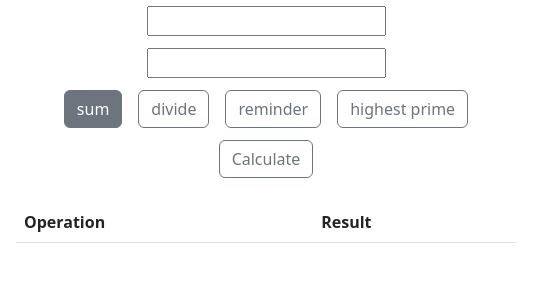
template spec › should calculate the sum
Type "5" into the 1st number field named "calculator-input" at [267, 21], box [147,6,386,36]
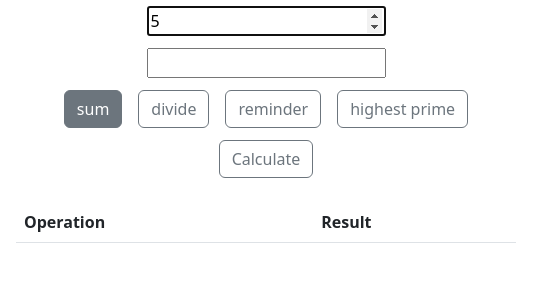
Type "10" into the 2nd number field named "calculator-input" at [267, 63], box [147,48,386,78]
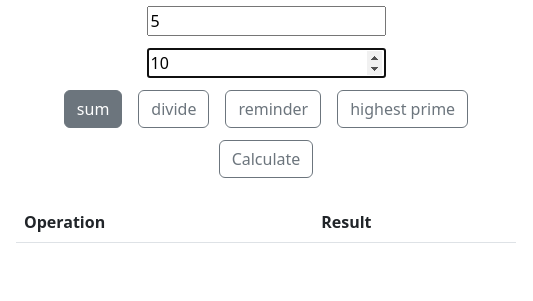
Click the button "sum" at [94, 109], box [64,90,123,128]
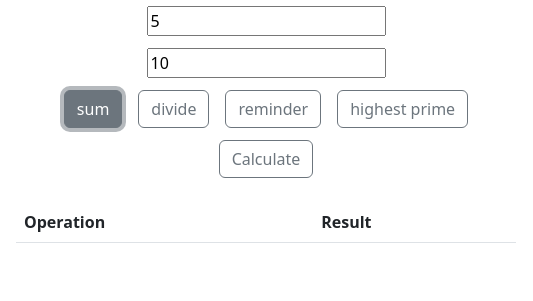
Click the button "Calculate" at [267, 159], box [219,140,314,178]
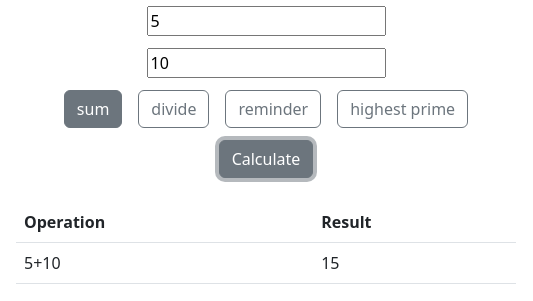
Check: the text "5+10" is shown, box [16,242,313,284]
Check: the text "15" is shown, box [313,242,516,284]
